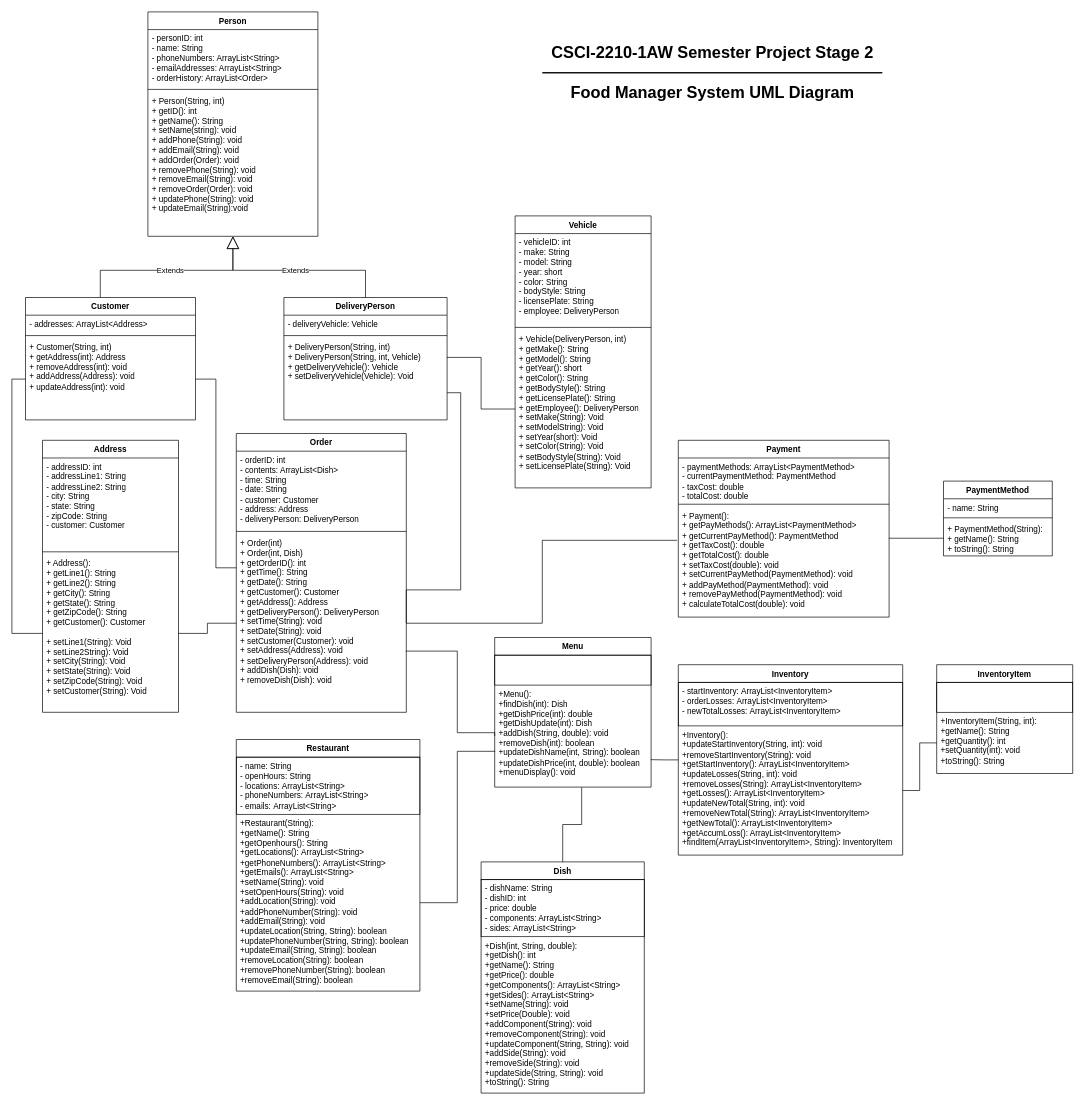
Image size: 1085x1107. Some labels were removed from this diagram. The shapes that lost their labels are listed below. From the top down, each one's box as (x1, y1, x2, y2) in pixels, then its label:
(494, 654, 651, 685): dishes: ArrayList<Dish> nextDishID: int
(936, 682, 1073, 712): - name: String - quantity: int
